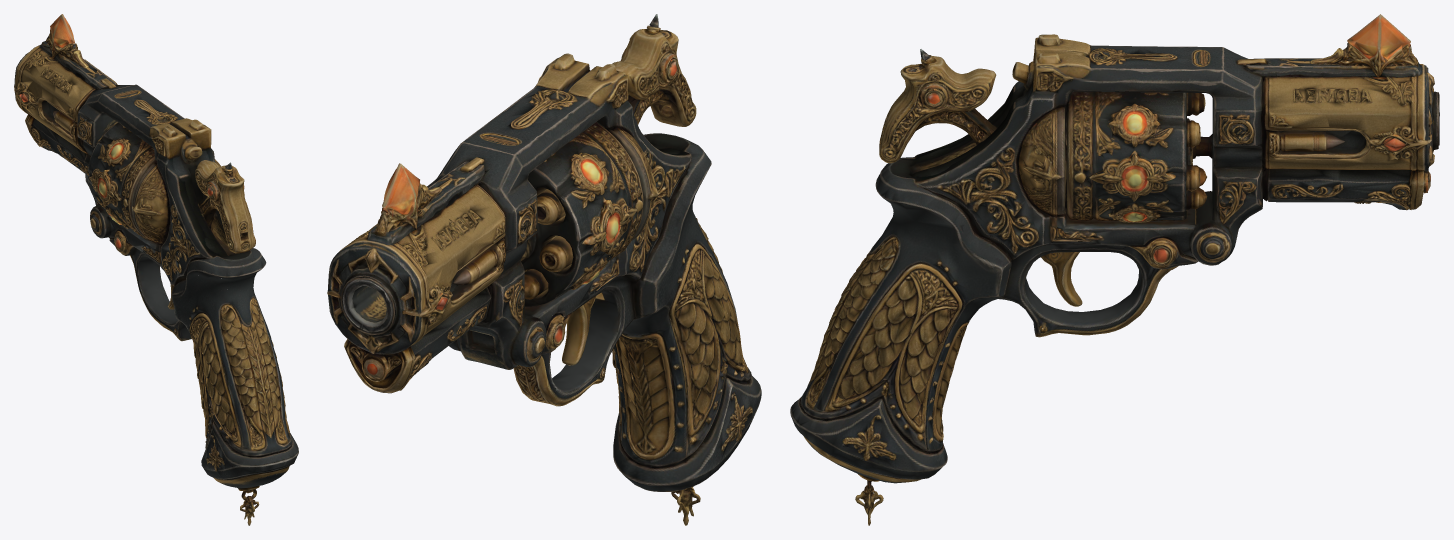
The model's file is handcannon.glb.
3 renders of one model, left to right at view 1: azimuth 30°, elevation 25°; view 2: azimuth 150°, elevation 25°; view 3: azimuth 270°, elevation 25°, orthographic. The views are drawn at different scales.
Visible parts, largest first — view 1: tripo_node_dbcca82c-c16b-445b-ae6e-e1867d67f97a; view 2: tripo_node_dbcca82c-c16b-445b-ae6e-e1867d67f97a; view 3: tripo_node_dbcca82c-c16b-445b-ae6e-e1867d67f97a.
Boxes of the visible parts, x1,y1,x2,y2 form: tripo_node_dbcca82c-c16b-445b-ae6e-e1867d67f97a: [14, 14, 298, 525]; tripo_node_dbcca82c-c16b-445b-ae6e-e1867d67f97a: [327, 14, 761, 525]; tripo_node_dbcca82c-c16b-445b-ae6e-e1867d67f97a: [790, 14, 1439, 525].
Bounding box in the file's own units: 0.0714 × 0.2499 × 0.2877.
1 material, 1 textured.
